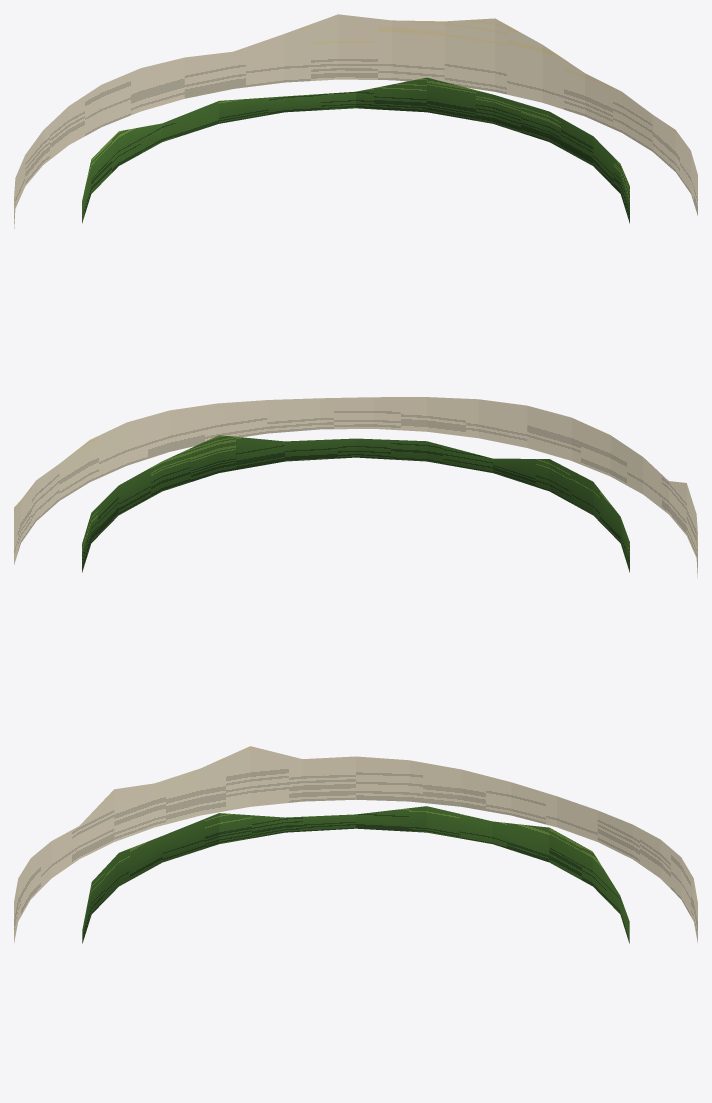
Rendered from mter.backdrop.glb.
3 views of the same model, one above another, from view 1: azimuth 30°, elevation 25°; view 2: azimuth 150°, elevation 25°; view 3: azimuth 270°, elevation 25° (orthographic).
Visible parts, largest first — view 1: kit_shell_vista_far, kit_shell_vista; view 2: kit_shell_vista_far, kit_shell_vista; view 3: kit_shell_vista_far, kit_shell_vista.
Part boxes in pixels (<box>): kit_shell_vista_far: <box>14,14,697,228</box>; kit_shell_vista: <box>82,77,629,223</box>; kit_shell_vista_far: <box>14,397,697,577</box>; kit_shell_vista: <box>82,435,629,572</box>; kit_shell_vista_far: <box>14,746,697,942</box>; kit_shell_vista: <box>82,806,629,943</box>.
Size of the model in its own units: 650 by 76.93 by 650.
2 materials, 2 textured.
